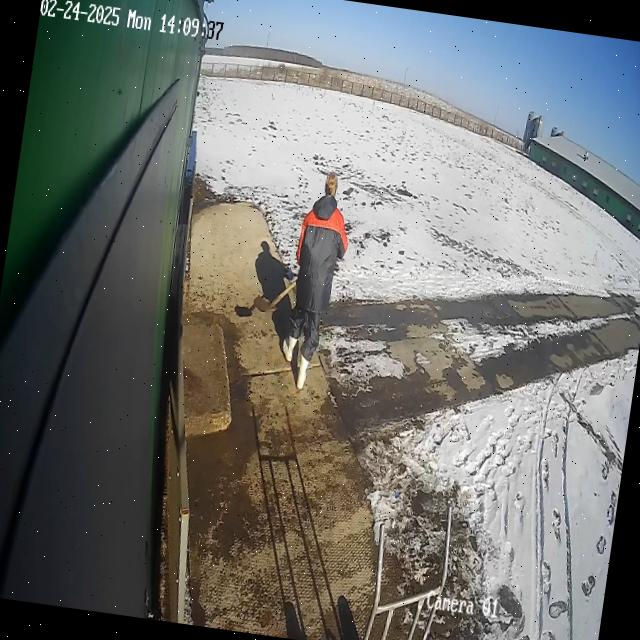Red uniform: (279, 190, 355, 369)
